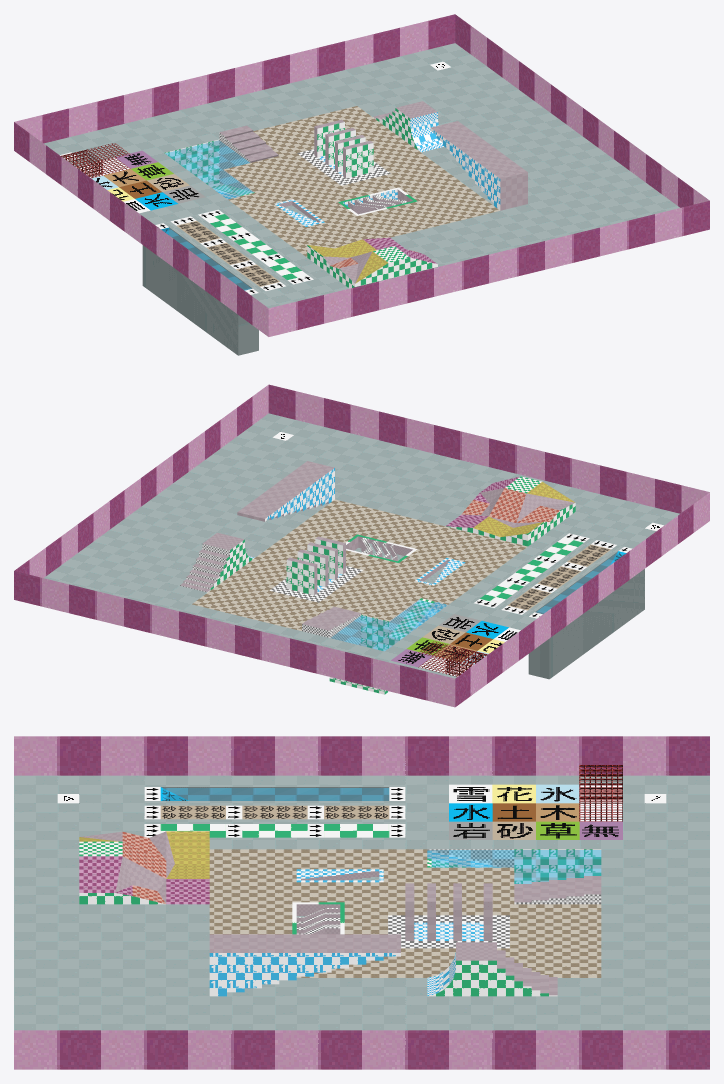
File: test_map_all.glb
3 renders of one model, top to bottom at view 1: azimuth 30°, elevation 25°; view 2: azimuth 150°, elevation 25°; view 3: azimuth 270°, elevation 25°, orthographic. The views are drawn at different scales.
Parts seen in each view (by area): view 1: test_map_all; view 2: test_map_all; view 3: test_map_all.
Part boxes in pixels (x1=…): test_map_all: x1=14, y1=14, x2=709, y2=355; test_map_all: x1=14, y1=384, x2=709, y2=707; test_map_all: x1=14, y1=736, x2=709, y2=1069.
Size of the model in its own units: 16 by 3.1 by 16.
33 materials, 33 textured.
